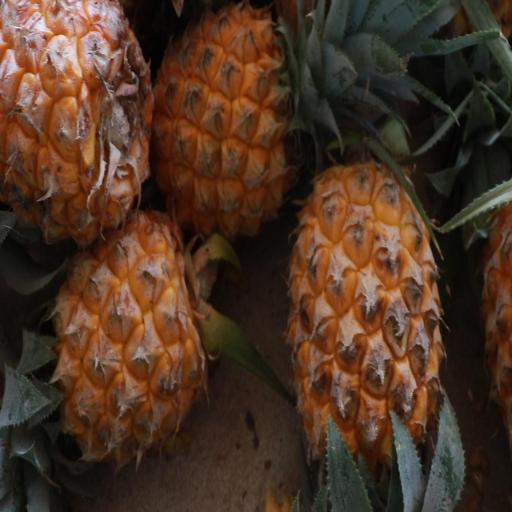Pineapple - v8 v1: (280, 141, 459, 510), (29, 199, 217, 473), (141, 0, 324, 256), (0, 0, 158, 261)
